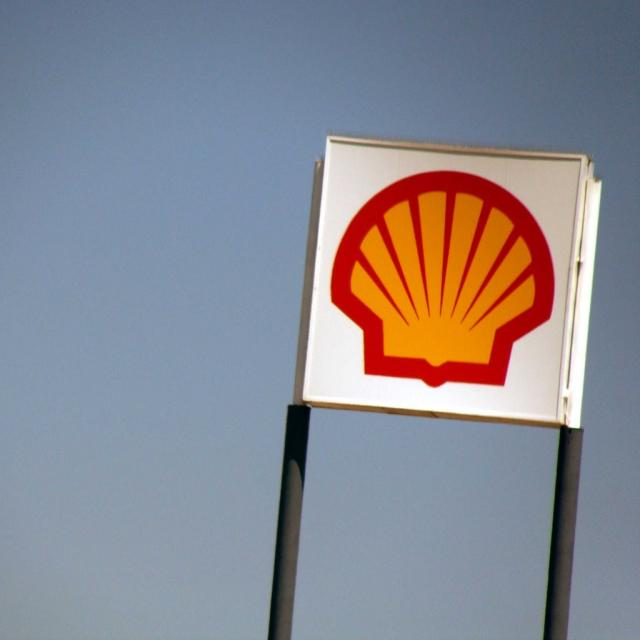shell: (330, 171, 558, 390)
